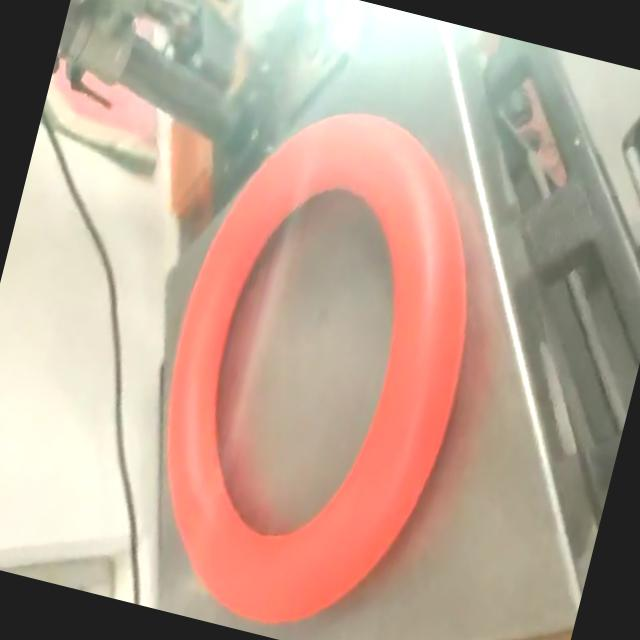note: (112, 78, 523, 640)
